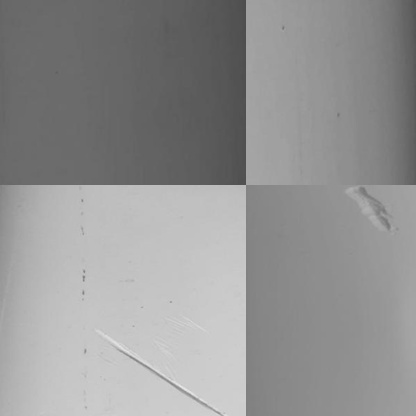sunshang: (94, 328, 222, 415), (344, 182, 393, 235)
